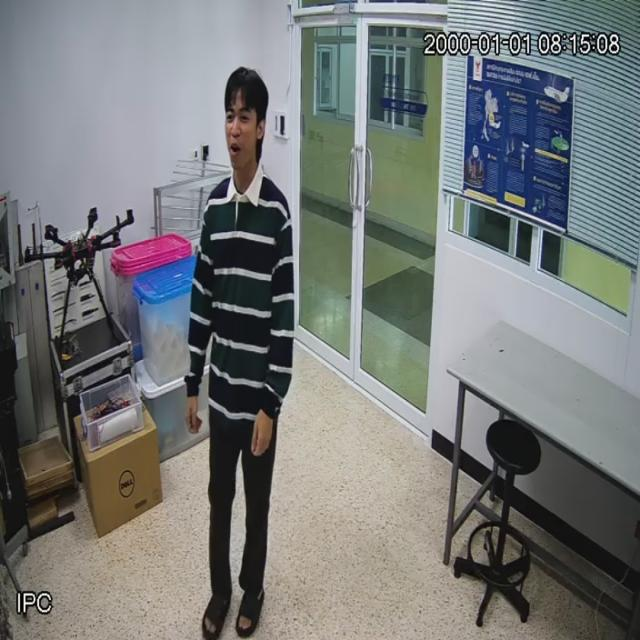normal: (182, 53, 300, 640)
